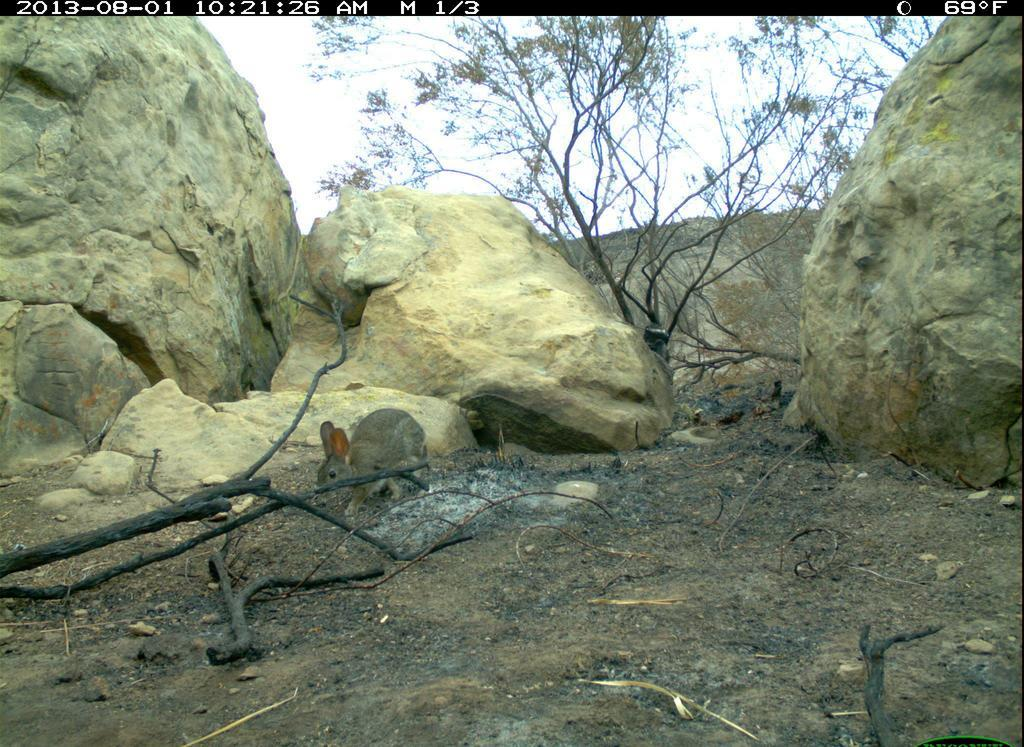rabbit: (306, 402, 450, 501)
